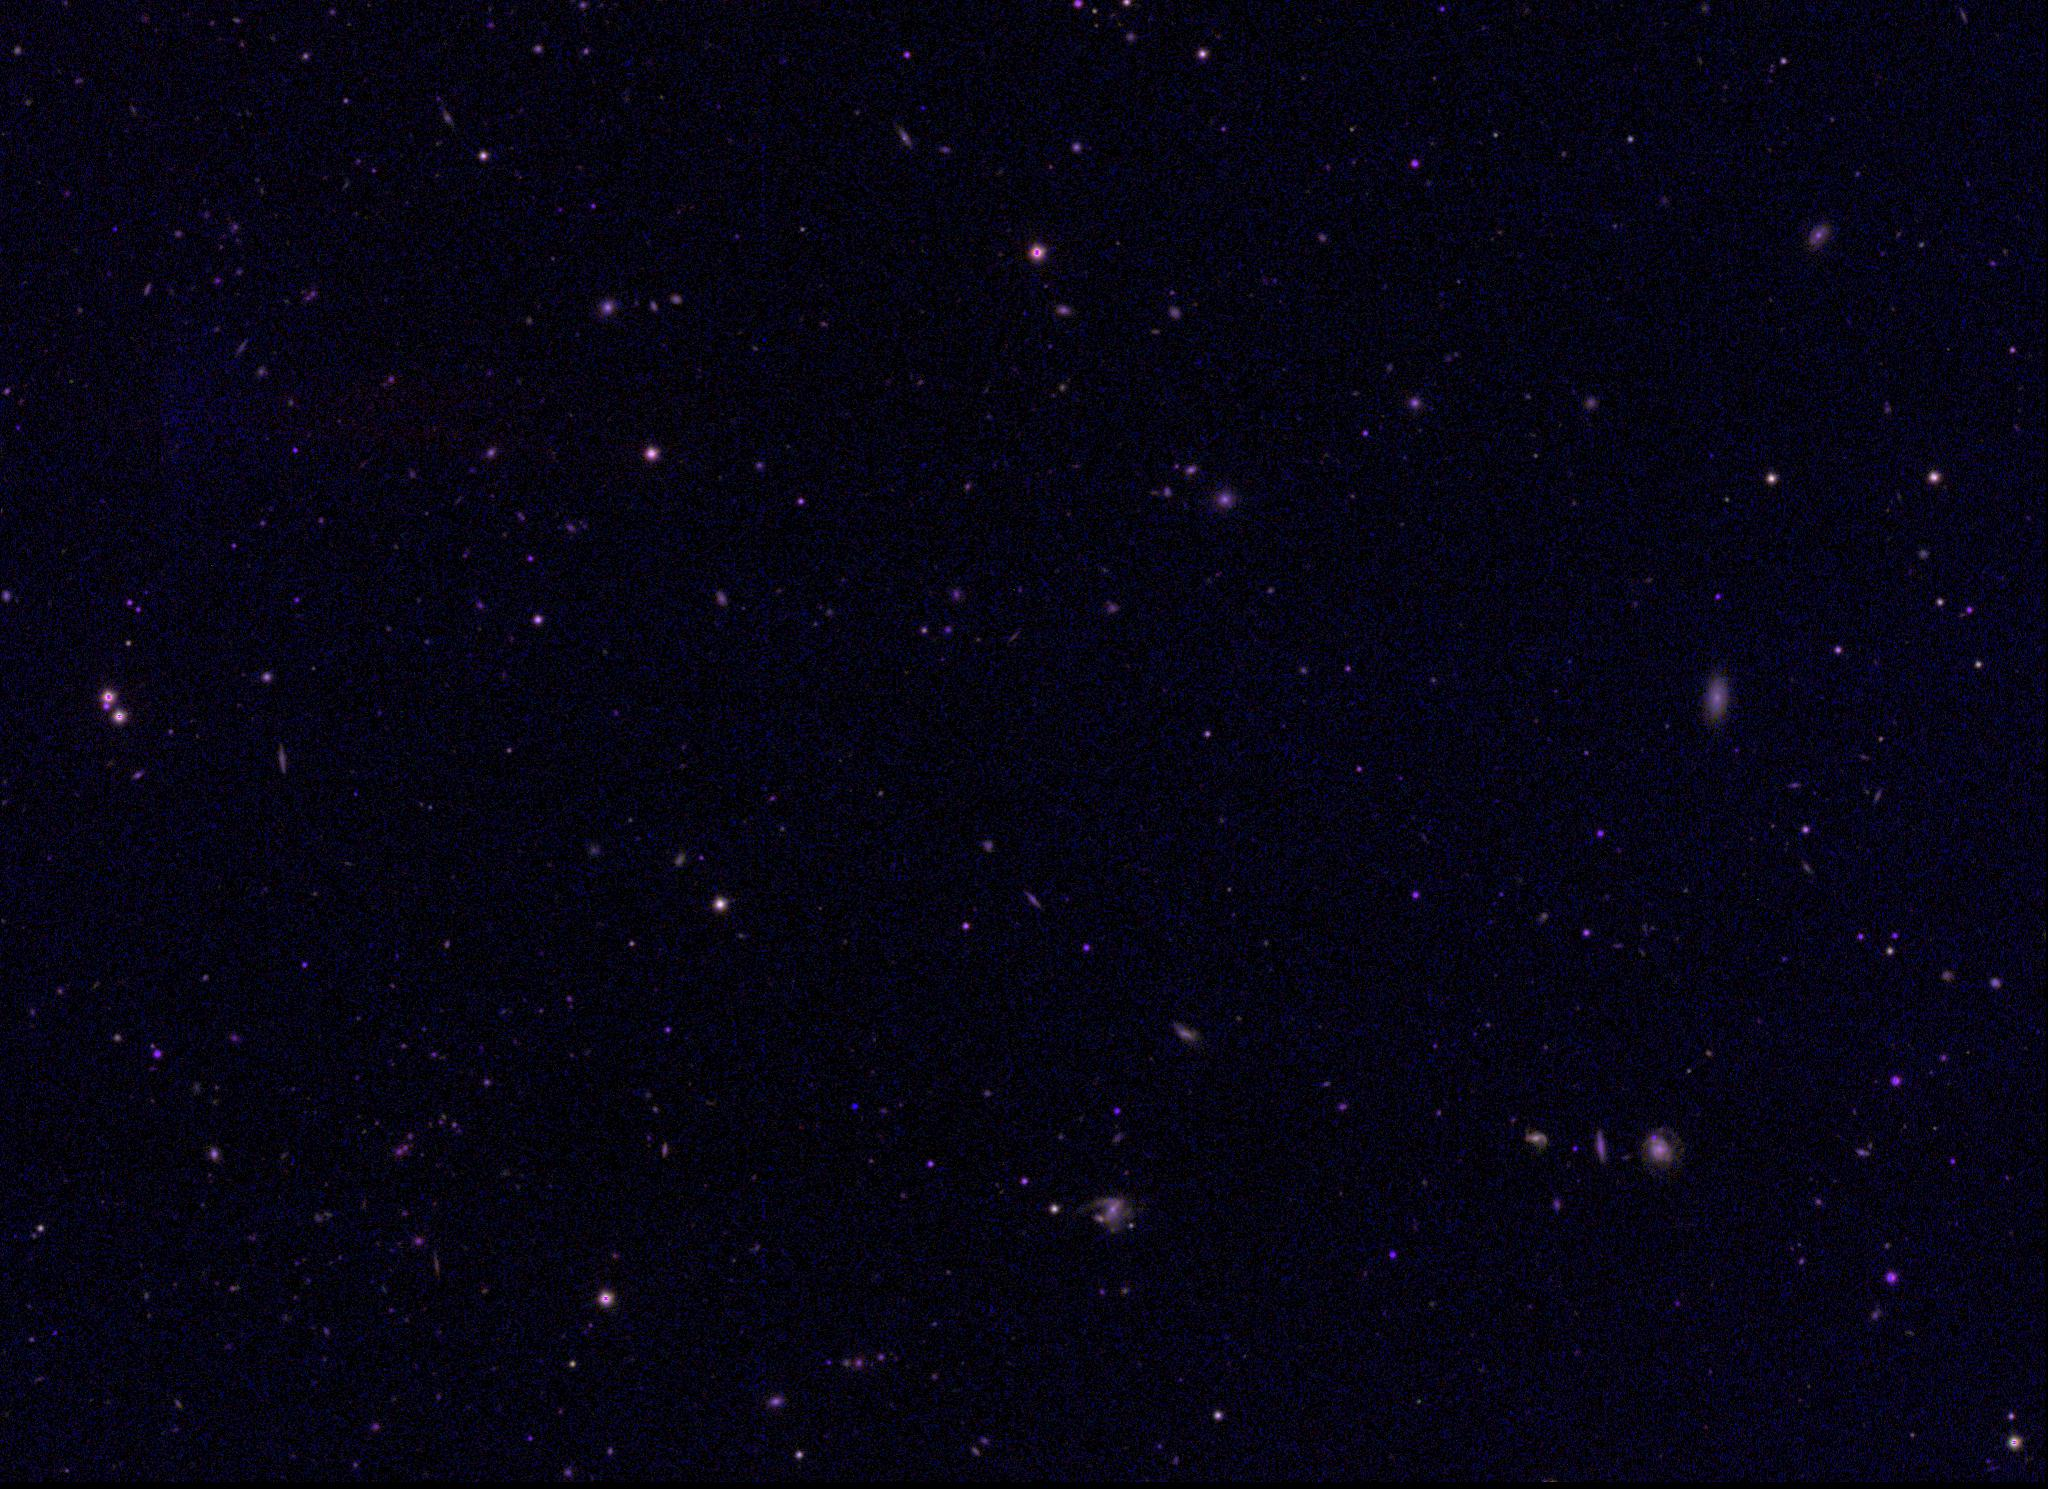L: (846, 1101, 860, 1115)
